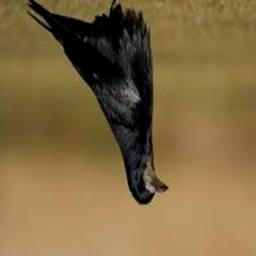Crow: (24, 0, 169, 206)
